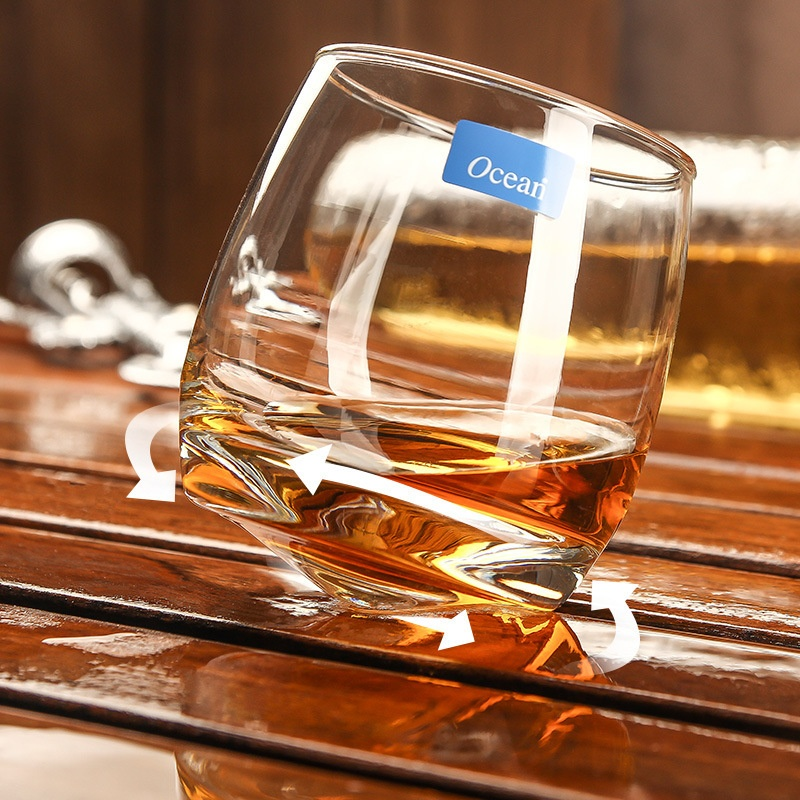whiskey: (182, 42, 698, 611)
